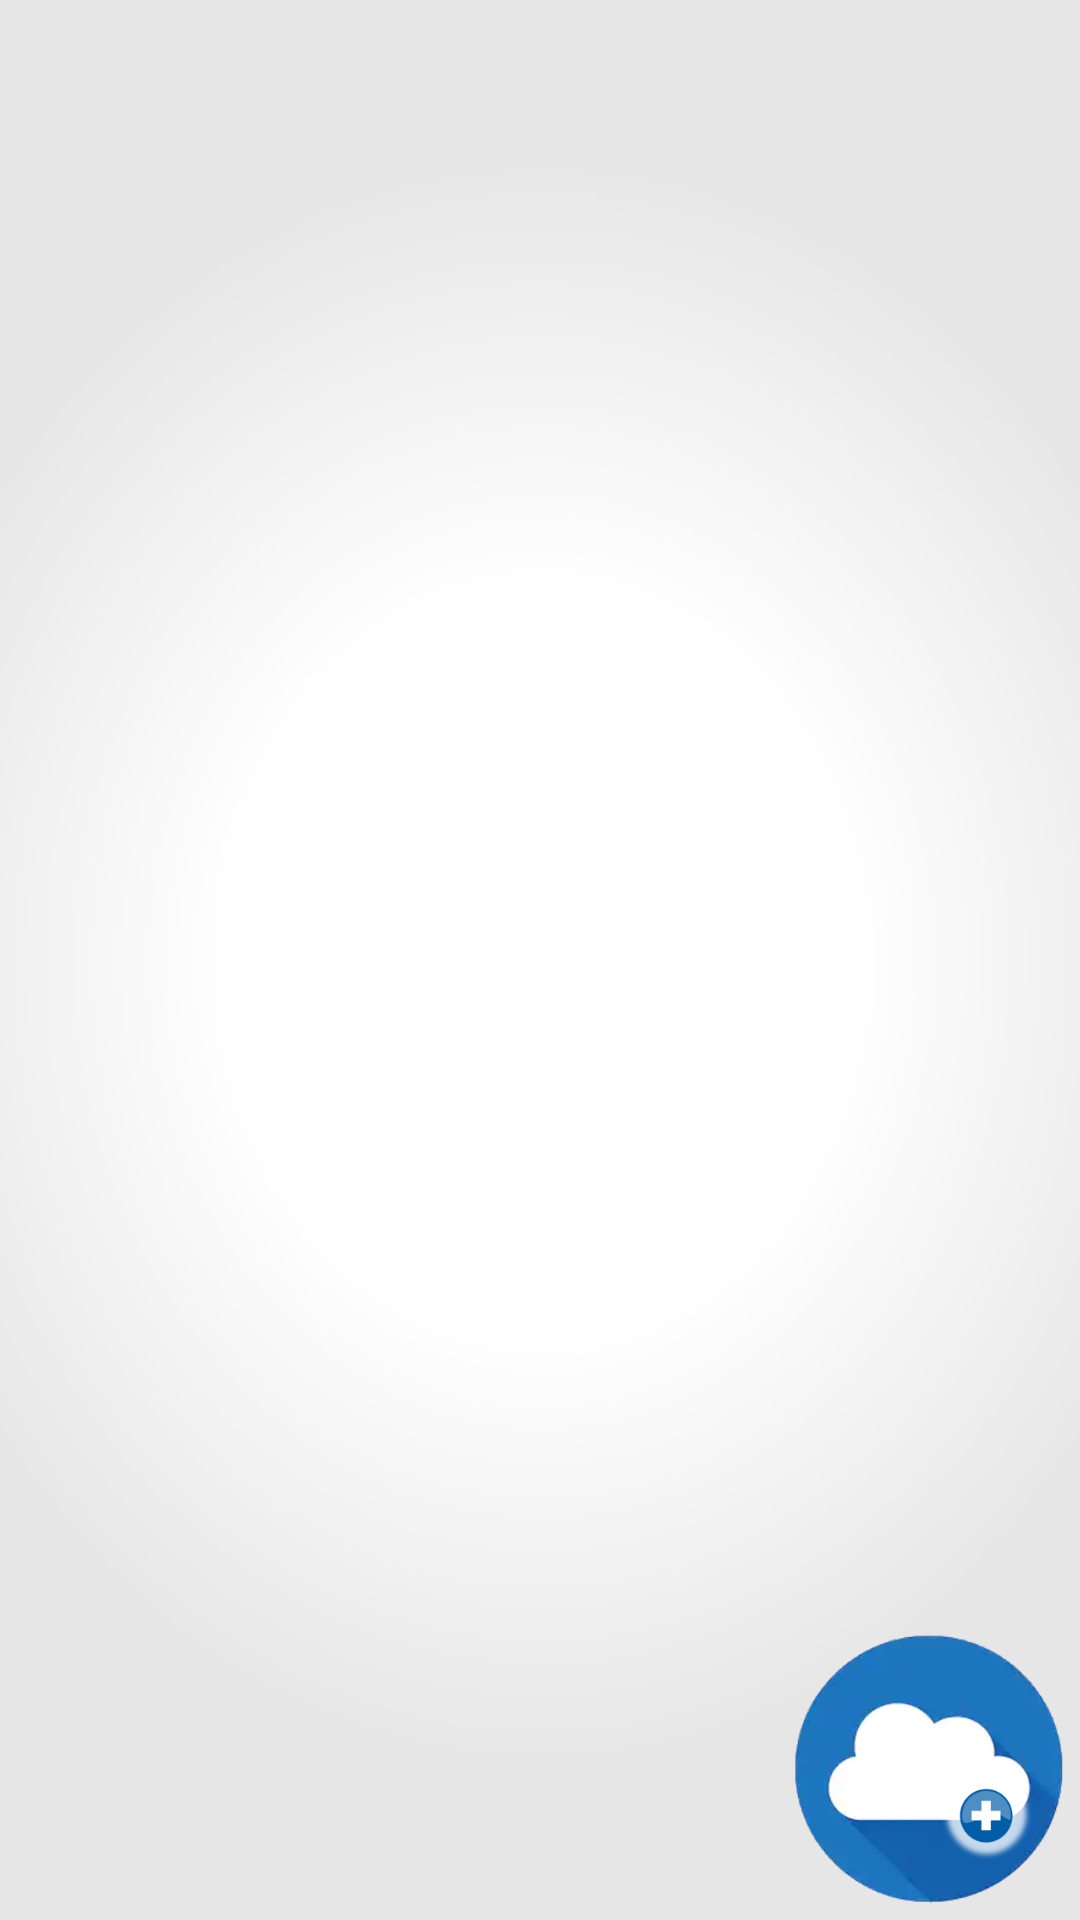

Icon bounding boxes for this 1080px×1920px phone screenshot, format (x1, y1, x2, y2):
add cloud account: (795, 1635, 1063, 1903)
